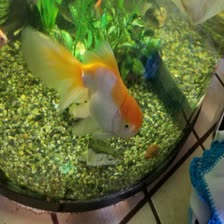Cuezo: (20, 25, 142, 140)
